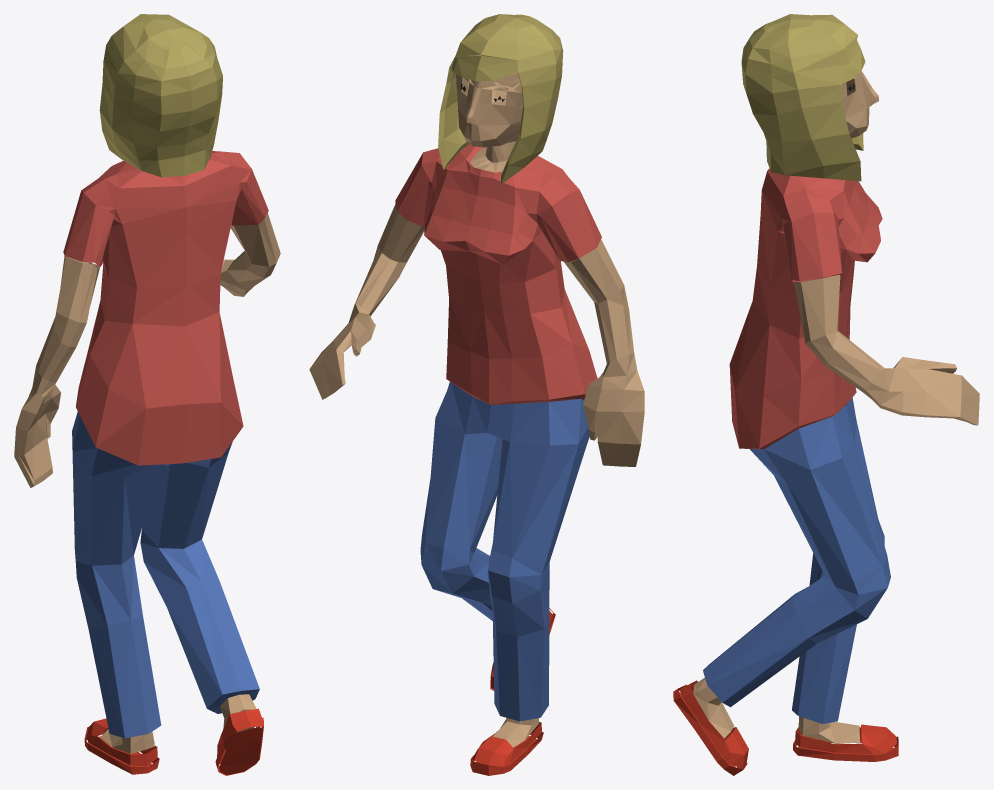
File: person_6_w2.fbx
The picture shows the model from 3 angles, left to right: view 1: azimuth 30°, elevation 25°; view 2: azimuth 150°, elevation 25°; view 3: azimuth 270°, elevation 25°; orthographic projection. The views are drawn at different scales.
Visible parts, largest first — view 1: Woman; view 2: Woman; view 3: Woman.
Boxes of the visible parts, box(x1,y1,x2,y2) form: Woman: box(14, 14, 280, 775); Woman: box(309, 14, 644, 775); Woman: box(673, 14, 979, 775).
Size of the model in its own units: 0.3892 by 1 by 0.3744.
